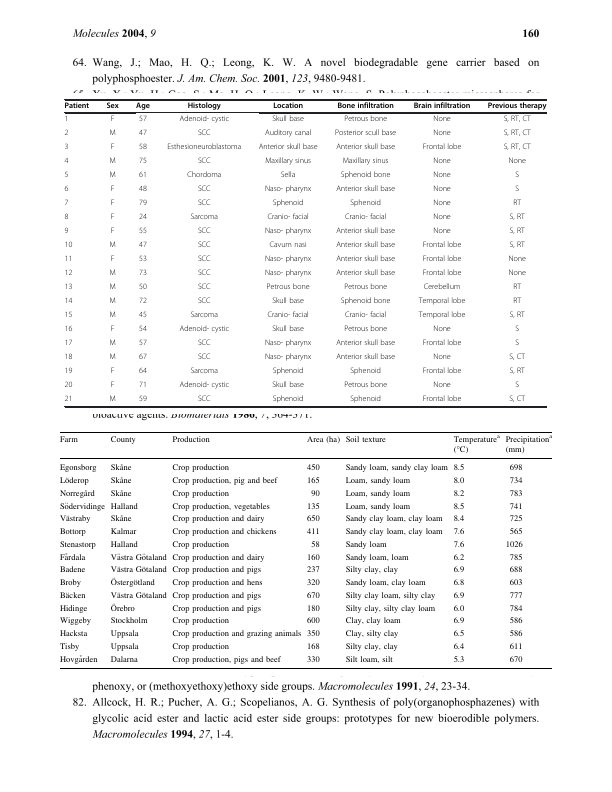borderless: (63, 98, 546, 406), (59, 430, 552, 668)
cell: (171, 629, 302, 639), (171, 655, 281, 665), (452, 433, 501, 455), (504, 433, 553, 455), (171, 476, 278, 486), (171, 527, 277, 537), (344, 464, 449, 474), (171, 502, 270, 512), (344, 515, 443, 525), (344, 527, 443, 537), (171, 515, 265, 525), (171, 553, 265, 563), (171, 578, 263, 588), (344, 591, 436, 601), (344, 604, 436, 614), (171, 566, 262, 576), (171, 591, 262, 601), (171, 604, 262, 614), (344, 578, 426, 588), (166, 143, 242, 153), (344, 476, 411, 486), (344, 489, 411, 499), (344, 502, 411, 512), (344, 553, 409, 563), (334, 129, 397, 139), (335, 143, 396, 153), (335, 185, 396, 195), (335, 227, 396, 237), (335, 241, 396, 251), (335, 255, 396, 265), (335, 269, 396, 279), (335, 339, 396, 349), (335, 353, 396, 363), (258, 143, 318, 153), (171, 464, 230, 474), (171, 489, 230, 499), (171, 540, 230, 550), (171, 617, 230, 627), (171, 642, 230, 652), (109, 553, 167, 563), (109, 566, 167, 576), (109, 591, 167, 601), (344, 617, 401, 627), (344, 629, 399, 639), (344, 566, 398, 576), (344, 642, 398, 652), (487, 102, 547, 111), (336, 102, 395, 111), (413, 102, 471, 111), (178, 115, 230, 125), (178, 325, 230, 335), (178, 381, 230, 391), (340, 171, 391, 181), (340, 297, 391, 307), (109, 577, 155, 588), (344, 655, 393, 665), (264, 129, 312, 139), (264, 157, 312, 167), (264, 185, 312, 195), (264, 227, 312, 237), (264, 255, 312, 265), (264, 269, 312, 279), (418, 297, 466, 307), (418, 311, 466, 321), (264, 339, 312, 349), (264, 353, 312, 363), (59, 502, 106, 512), (342, 157, 389, 167), (343, 115, 388, 125), (343, 283, 388, 293), (343, 325, 388, 335), (343, 381, 388, 391), (266, 213, 310, 223), (266, 283, 310, 293), (266, 311, 310, 321), (344, 540, 387, 550), (344, 213, 387, 223), (344, 311, 387, 321), (344, 435, 386, 445), (422, 143, 462, 153), (268, 241, 308, 251), (422, 241, 462, 251), (422, 255, 462, 265), (422, 269, 462, 279), (422, 339, 462, 349), (422, 367, 462, 377), (422, 395, 462, 405), (171, 435, 210, 445), (109, 617, 148, 627), (59, 655, 98, 665), (59, 464, 97, 474), (423, 283, 461, 293), (59, 540, 96, 550), (59, 489, 95, 499), (186, 171, 222, 181), (306, 435, 341, 445), (271, 115, 305, 125), (271, 297, 305, 307), (271, 325, 305, 335), (271, 381, 305, 391), (59, 617, 92, 627), (349, 199, 382, 209), (349, 367, 382, 377), (349, 395, 382, 405), (59, 515, 91, 525), (272, 199, 304, 209), (272, 367, 304, 377), (272, 395, 304, 405), (187, 102, 222, 111), (109, 602, 135, 614), (59, 476, 89, 486), (109, 629, 139, 639), (109, 642, 139, 652), (189, 213, 219, 223), (189, 311, 219, 321), (189, 367, 219, 377), (109, 502, 138, 512), (109, 540, 138, 550), (59, 604, 88, 614), (59, 629, 88, 639), (109, 655, 138, 665), (503, 115, 532, 125), (503, 129, 532, 139), (503, 143, 532, 153), (272, 102, 304, 111), (109, 527, 137, 537), (109, 435, 136, 445), (59, 527, 86, 537), (59, 553, 86, 563), (59, 566, 86, 576), (59, 591, 86, 601), (109, 463, 132, 474), (109, 514, 132, 525), (64, 102, 90, 111), (109, 476, 132, 486), (109, 489, 132, 499), (59, 578, 82, 588), (59, 642, 80, 652), (58, 435, 78, 445), (432, 115, 452, 125), (432, 129, 452, 139), (432, 157, 452, 167), (507, 157, 527, 167), (432, 171, 452, 181), (432, 185, 452, 195), (432, 199, 452, 209), (432, 213, 452, 223), (432, 227, 452, 237), (507, 255, 527, 265), (507, 269, 527, 279), (432, 325, 452, 335), (432, 353, 452, 363), (432, 381, 452, 391), (504, 540, 523, 550), (508, 353, 526, 363), (508, 395, 526, 405), (509, 213, 526, 223), (509, 227, 526, 237), (509, 241, 526, 251), (509, 311, 526, 321), (509, 367, 526, 377), (280, 171, 296, 181), (508, 464, 523, 474), (508, 476, 523, 486), (508, 489, 523, 499), (508, 502, 523, 512), (508, 515, 523, 525), (508, 527, 523, 537), (508, 553, 523, 563), (508, 566, 523, 576), (508, 578, 523, 588), (508, 591, 523, 601), (508, 604, 523, 614), (508, 617, 523, 627), (508, 629, 523, 639), (508, 642, 523, 652), (508, 655, 523, 665), (135, 102, 151, 111), (306, 464, 320, 474), (306, 476, 320, 486), (306, 502, 320, 512), (306, 515, 320, 525), (306, 527, 320, 537), (306, 553, 320, 563), (306, 566, 320, 576), (306, 578, 320, 588), (306, 591, 320, 601), (306, 604, 320, 614), (306, 617, 320, 627), (306, 629, 320, 639), (306, 642, 320, 652), (306, 655, 320, 665), (197, 129, 211, 139), (197, 157, 211, 167), (197, 185, 211, 195), (197, 199, 211, 209), (197, 227, 211, 237), (197, 241, 211, 251), (197, 255, 211, 265), (197, 269, 211, 279), (197, 283, 211, 293), (197, 297, 211, 307), (197, 339, 211, 349), (197, 353, 211, 363), (197, 395, 211, 405), (105, 102, 120, 111), (452, 464, 465, 474), (452, 476, 465, 486), (452, 489, 465, 499), (452, 502, 465, 512), (452, 515, 465, 525), (452, 527, 465, 537), (452, 540, 465, 550), (452, 553, 465, 563), (452, 566, 465, 576), (452, 578, 465, 588), (452, 591, 465, 601), (452, 604, 465, 614), (452, 617, 465, 627), (452, 629, 465, 639), (452, 642, 465, 652), (452, 655, 465, 665), (310, 489, 320, 499), (310, 540, 320, 550), (138, 115, 148, 125), (138, 129, 148, 139), (138, 143, 148, 153), (138, 157, 148, 167), (138, 171, 148, 181), (138, 185, 148, 195), (138, 199, 148, 209), (512, 199, 522, 209), (138, 213, 148, 223), (138, 227, 148, 237), (138, 241, 148, 251), (138, 255, 148, 265), (138, 269, 148, 279), (138, 283, 148, 293), (512, 283, 522, 293), (138, 297, 148, 307), (512, 297, 522, 307), (138, 311, 148, 321), (138, 325, 148, 335), (138, 339, 148, 349), (138, 353, 148, 363), (138, 367, 148, 377), (138, 381, 148, 391), (138, 395, 148, 405), (108, 129, 117, 139), (108, 157, 117, 167), (108, 171, 117, 181), (64, 241, 73, 251), (108, 241, 117, 251), (64, 255, 73, 265), (64, 269, 73, 279), (108, 269, 117, 279), (64, 283, 73, 293), (108, 283, 117, 293), (64, 297, 73, 307), (108, 297, 117, 307), (64, 311, 73, 321), (108, 311, 117, 321), (64, 325, 73, 335), (64, 339, 73, 349), (108, 339, 117, 349), (64, 353, 73, 363), (108, 353, 117, 363), (64, 367, 73, 377), (64, 381, 73, 391), (64, 395, 73, 405), (108, 395, 117, 405), (514, 171, 520, 181), (514, 185, 520, 195), (514, 325, 520, 335), (514, 339, 520, 349), (514, 381, 520, 391), (64, 115, 69, 125), (110, 115, 115, 125), (64, 129, 69, 139), (64, 143, 69, 153), (110, 143, 115, 153), (64, 157, 69, 167), (64, 171, 69, 181), (64, 185, 69, 195), (110, 185, 115, 195), (64, 199, 69, 209), (110, 199, 115, 209), (64, 213, 69, 223), (110, 213, 115, 223), (64, 227, 69, 237), (110, 227, 115, 237), (110, 255, 115, 265), (110, 325, 115, 335), (110, 367, 115, 377), (110, 381, 115, 391)
